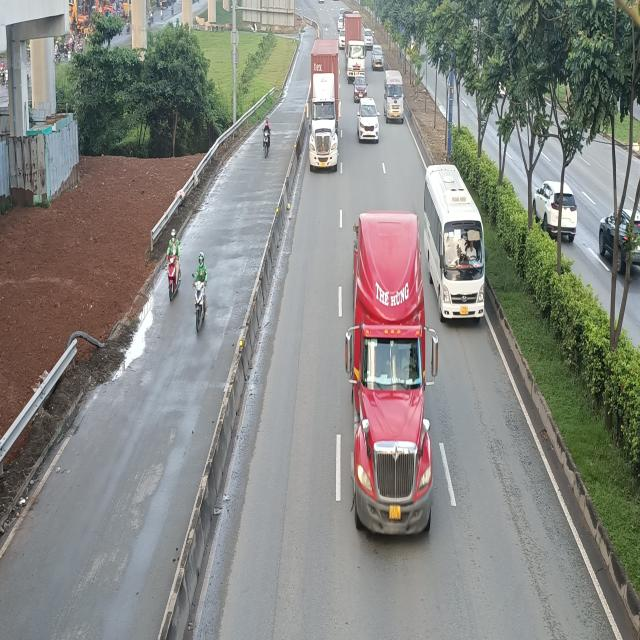car: (356, 98, 379, 144)
coach: (425, 163, 491, 324)
container: (350, 217, 441, 543), (309, 41, 341, 172), (345, 11, 364, 79)
van: (384, 71, 406, 126)
